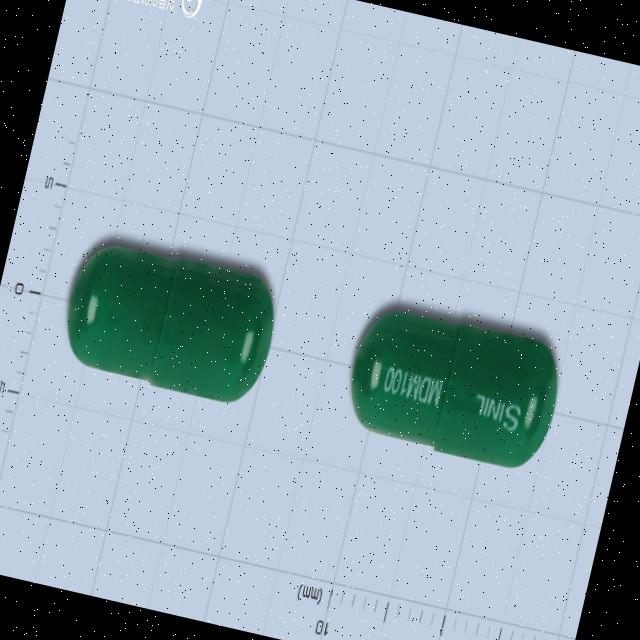Monodoxy-M Cap- Sinil: (52, 230, 286, 411), (338, 294, 570, 474)
